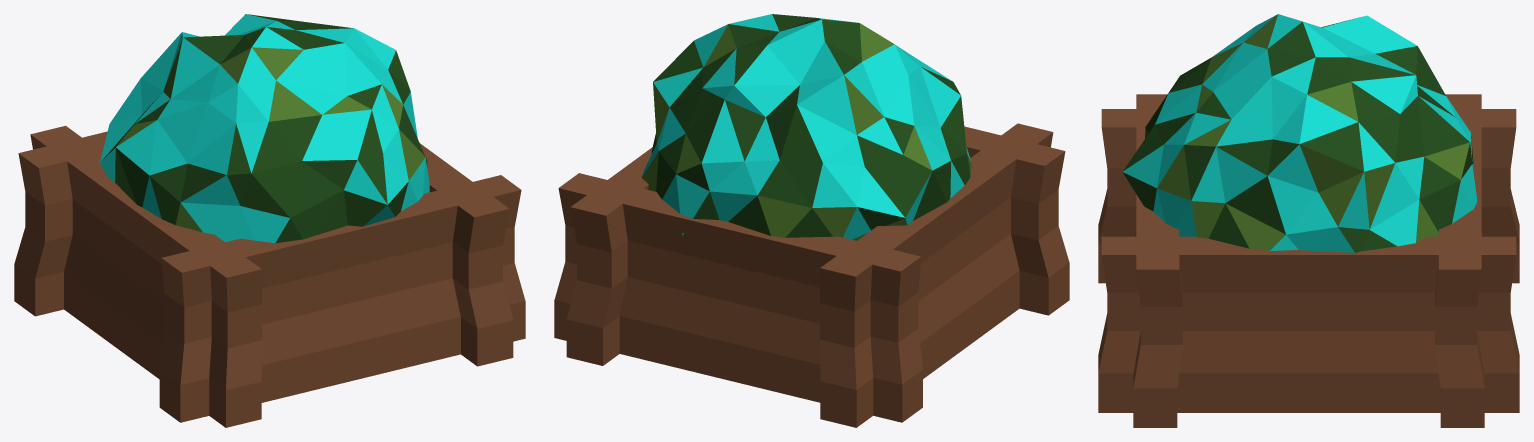
File: FlowersBlue.obj
3 views of the same model, side by side, from view 1: azimuth 30°, elevation 25°; view 2: azimuth 150°, elevation 25°; view 3: azimuth 270°, elevation 25° (orthographic). The views are drawn at different scales.
Visible parts, largest first — view 1: Object.003; view 2: Object.003; view 3: Object.003.
Boxes of the visible parts, left/top/right/bottom form: Object.003: left=14, top=14, right=525, bottom=427; Object.003: left=554, top=14, right=1069, bottom=427; Object.003: left=1098, top=14, right=1519, bottom=427.
Size of the model in its own units: 2.44 by 2 by 2.44.
